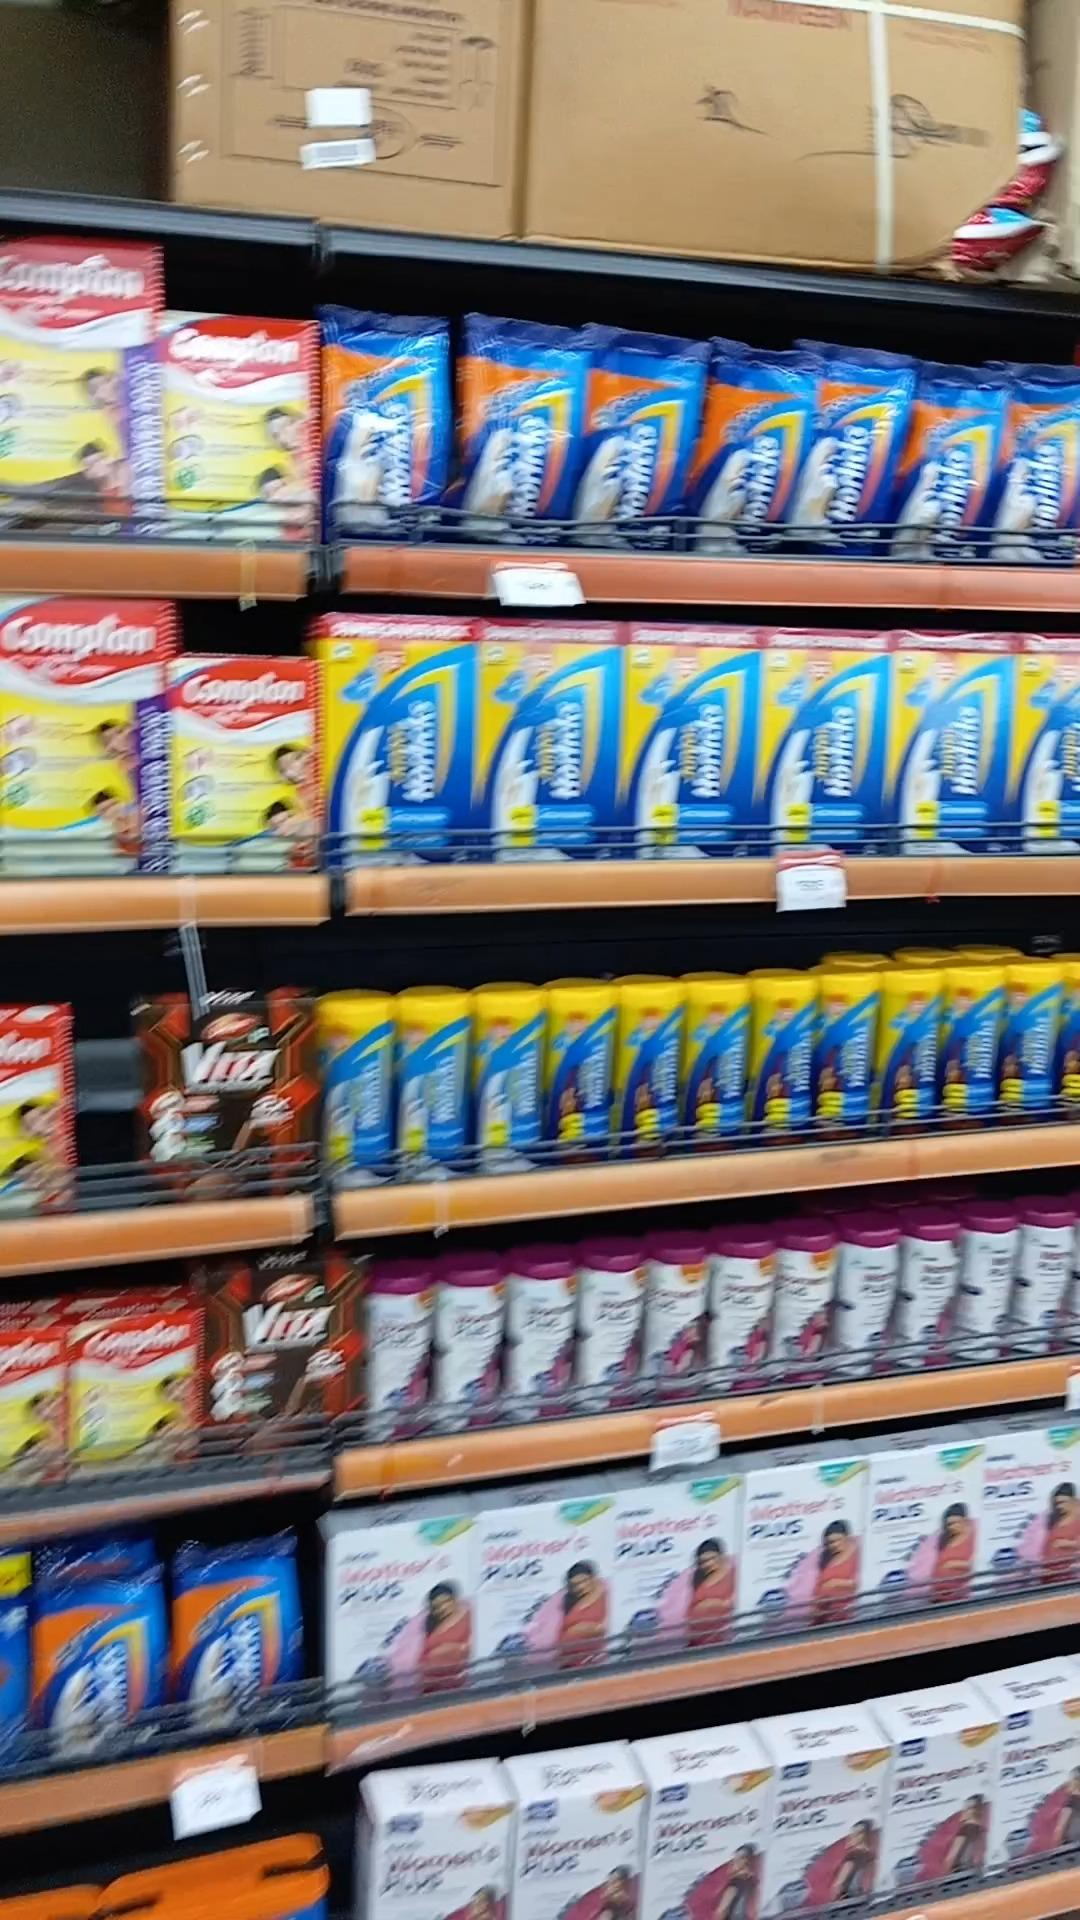COMPLAN_CHOCOLATE_1_KG_PACK: (4, 237, 158, 541)
COMPLAN_CHOCOLATE_500_GMS_PACK: (69, 1313, 199, 1477)
COMPLAN_CREAMY_CLASSIC_500_G_PACK: (165, 658, 315, 880), (170, 318, 314, 541)
HORLICKS_JUNIOR_VANILLA_500_GM_JAR: (400, 990, 469, 1187), (322, 1002, 392, 1193), (473, 985, 542, 1178)
HORLICK_CLASSIC_MALT_750_G_POUCH: (327, 306, 452, 541), (464, 315, 582, 546), (38, 1544, 157, 1763), (171, 1542, 298, 1743), (589, 330, 694, 554), (700, 342, 806, 559), (807, 345, 899, 556), (989, 357, 1080, 571), (907, 369, 994, 567)
